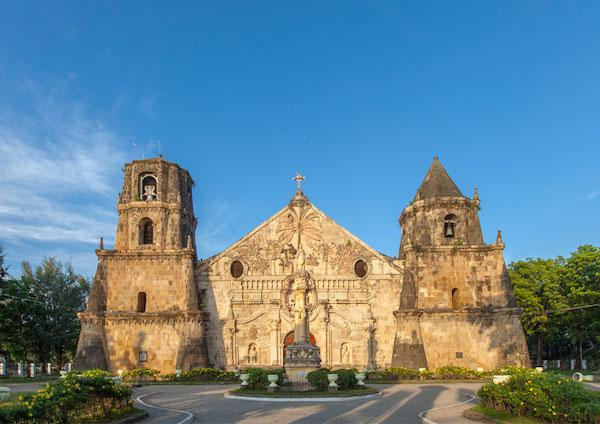Environmental Damage: (132, 193, 148, 205), (451, 239, 467, 248)
Miagao Church: (73, 137, 533, 375)
